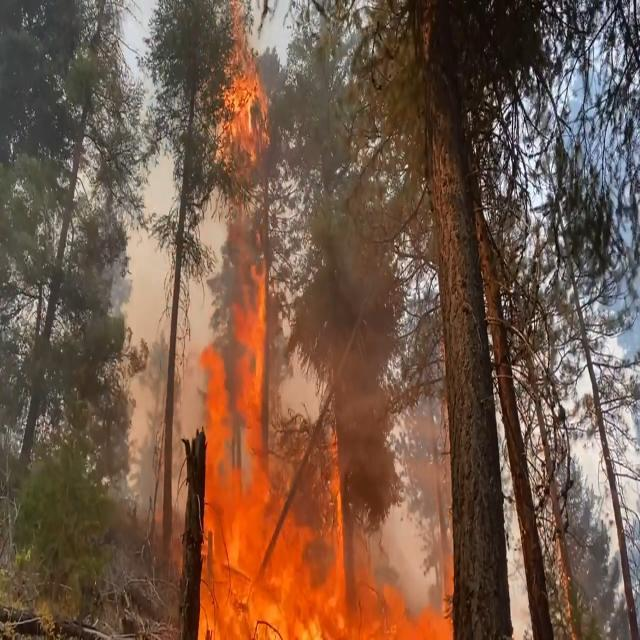Fire: (197, 10, 454, 640)
